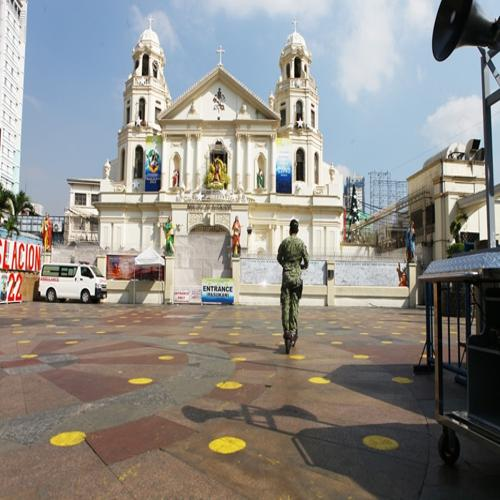Quiapo Church: (96, 6, 341, 312)
